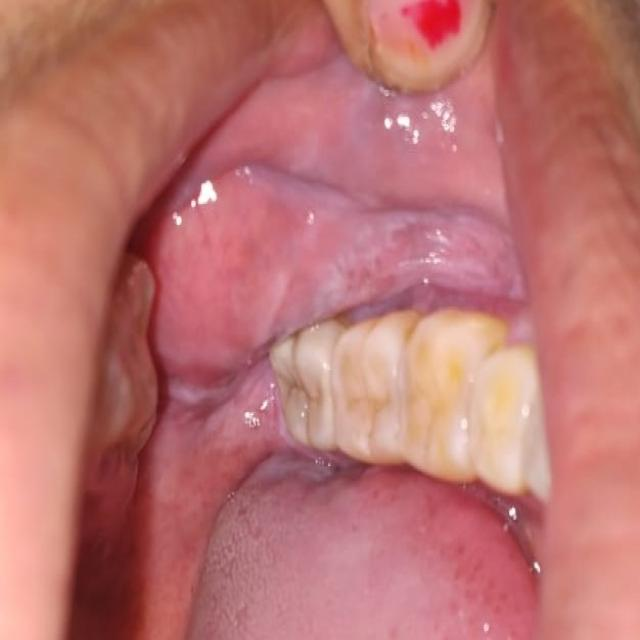Cancer: (208, 152, 535, 344)
